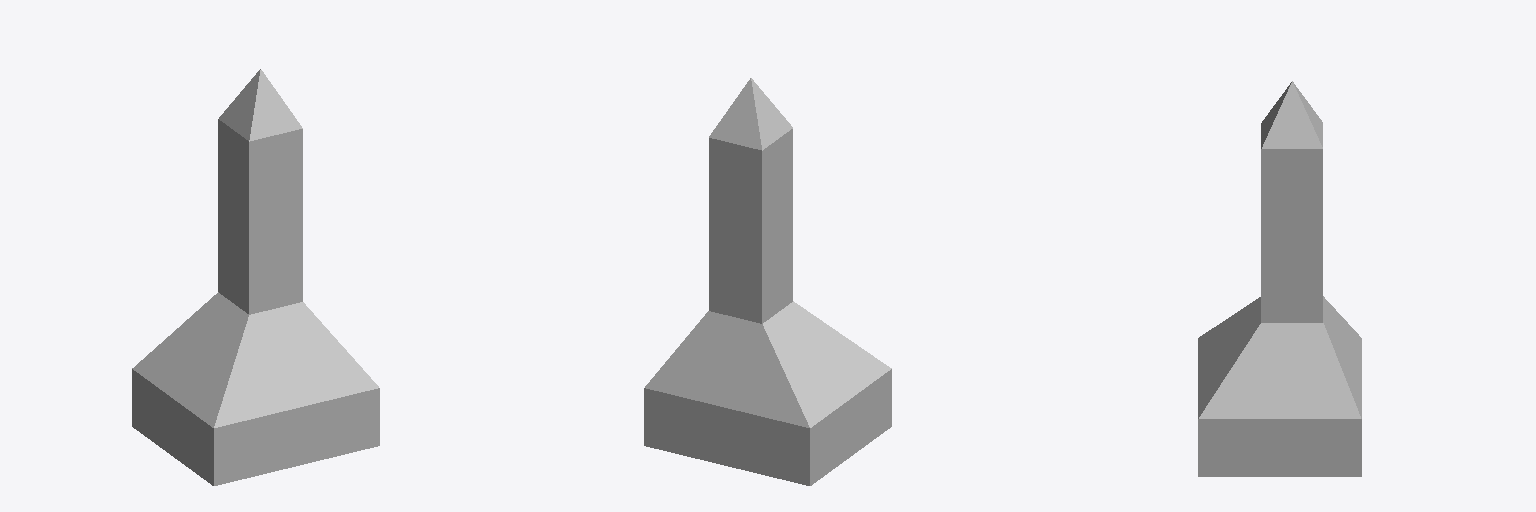
File: obelisk.obj
The picture shows the model from 3 angles: view 1: azimuth 30°, elevation 25°; view 2: azimuth 150°, elevation 25°; view 3: azimuth 270°, elevation 25°; orthographic projection.
Parts seen in each view (by area): view 1: pCube1; view 2: pCube1; view 3: pCube1.
Boxes of the visible parts, x1,y1,x2,y2 form: pCube1: [132, 69, 379, 485]; pCube1: [644, 78, 891, 485]; pCube1: [1198, 81, 1361, 476].
Bounding box in the file's own units: 94.03 × 195 × 80.02.